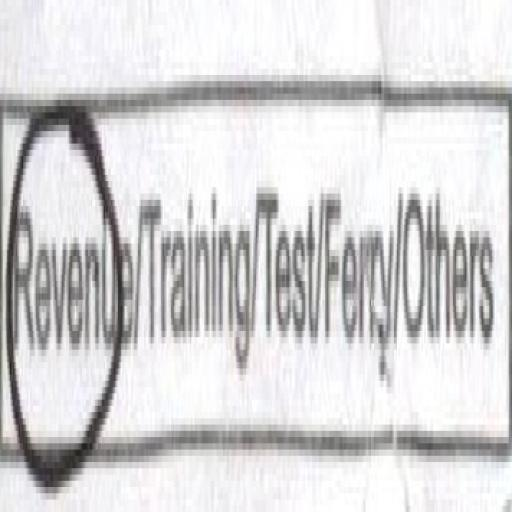check: (1, 43, 130, 512)
